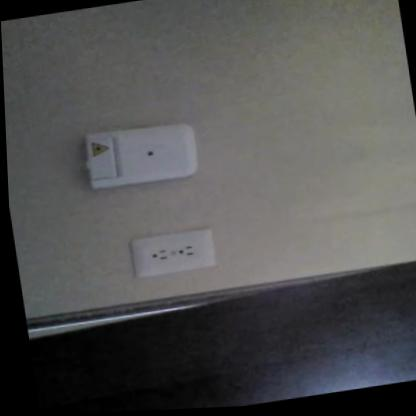OUTLET: (127, 227, 216, 279)
